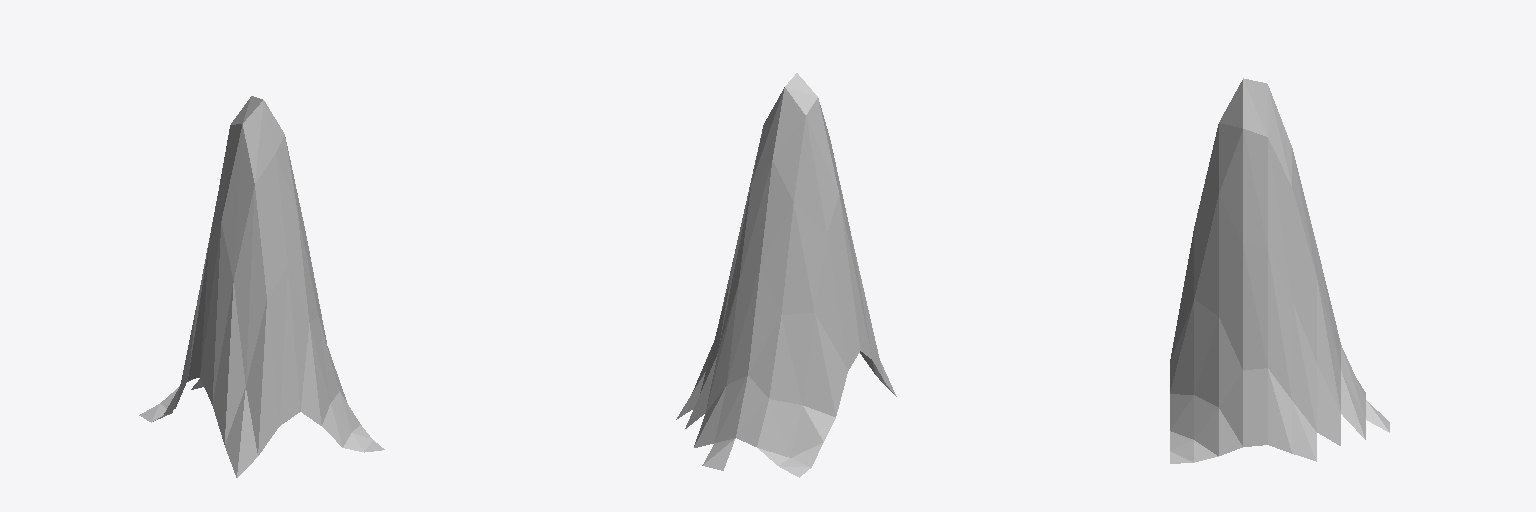
File: tree_23.obj
3 views of the same model, side by side, from view 1: azimuth 30°, elevation 25°; view 2: azimuth 150°, elevation 25°; view 3: azimuth 270°, elevation 25° (orthographic).
Parts seen in each view (by area): view 1: tree_23_minus_dtm; view 2: tree_23_minus_dtm; view 3: tree_23_minus_dtm.
Boxes of the visible parts, box(x1,y1,x2,y2) form: tree_23_minus_dtm: box(139, 96, 384, 477); tree_23_minus_dtm: box(676, 73, 896, 477); tree_23_minus_dtm: box(1170, 78, 1389, 463).
Bounding box in the file's own units: 7 × 15.53 × 9.